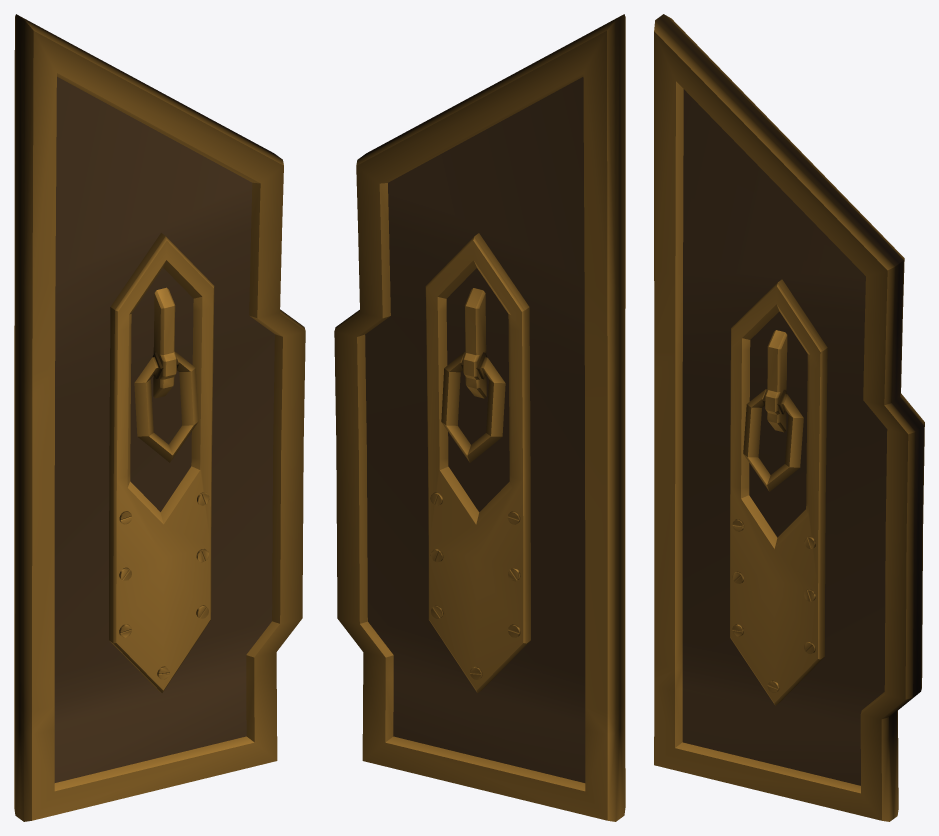
The model's file is obj_metalDoor_right.FBX.
The picture shows the model from 3 angles, left to right: view 1: azimuth 30°, elevation 25°; view 2: azimuth 150°, elevation 25°; view 3: azimuth 330°, elevation 25°; orthographic projection. The views are drawn at different scales.
Parts seen in each view (by area): view 1: obj_metalDoor_right; view 2: obj_metalDoor_right; view 3: obj_metalDoor_right.
Boxes of the visible parts, x1,y1,x2,y2 form: obj_metalDoor_right: [14, 14, 305, 821]; obj_metalDoor_right: [334, 14, 625, 821]; obj_metalDoor_right: [654, 14, 924, 821].
Bounding box in the file's own units: 1.68 × 4.59 × 0.3832.
